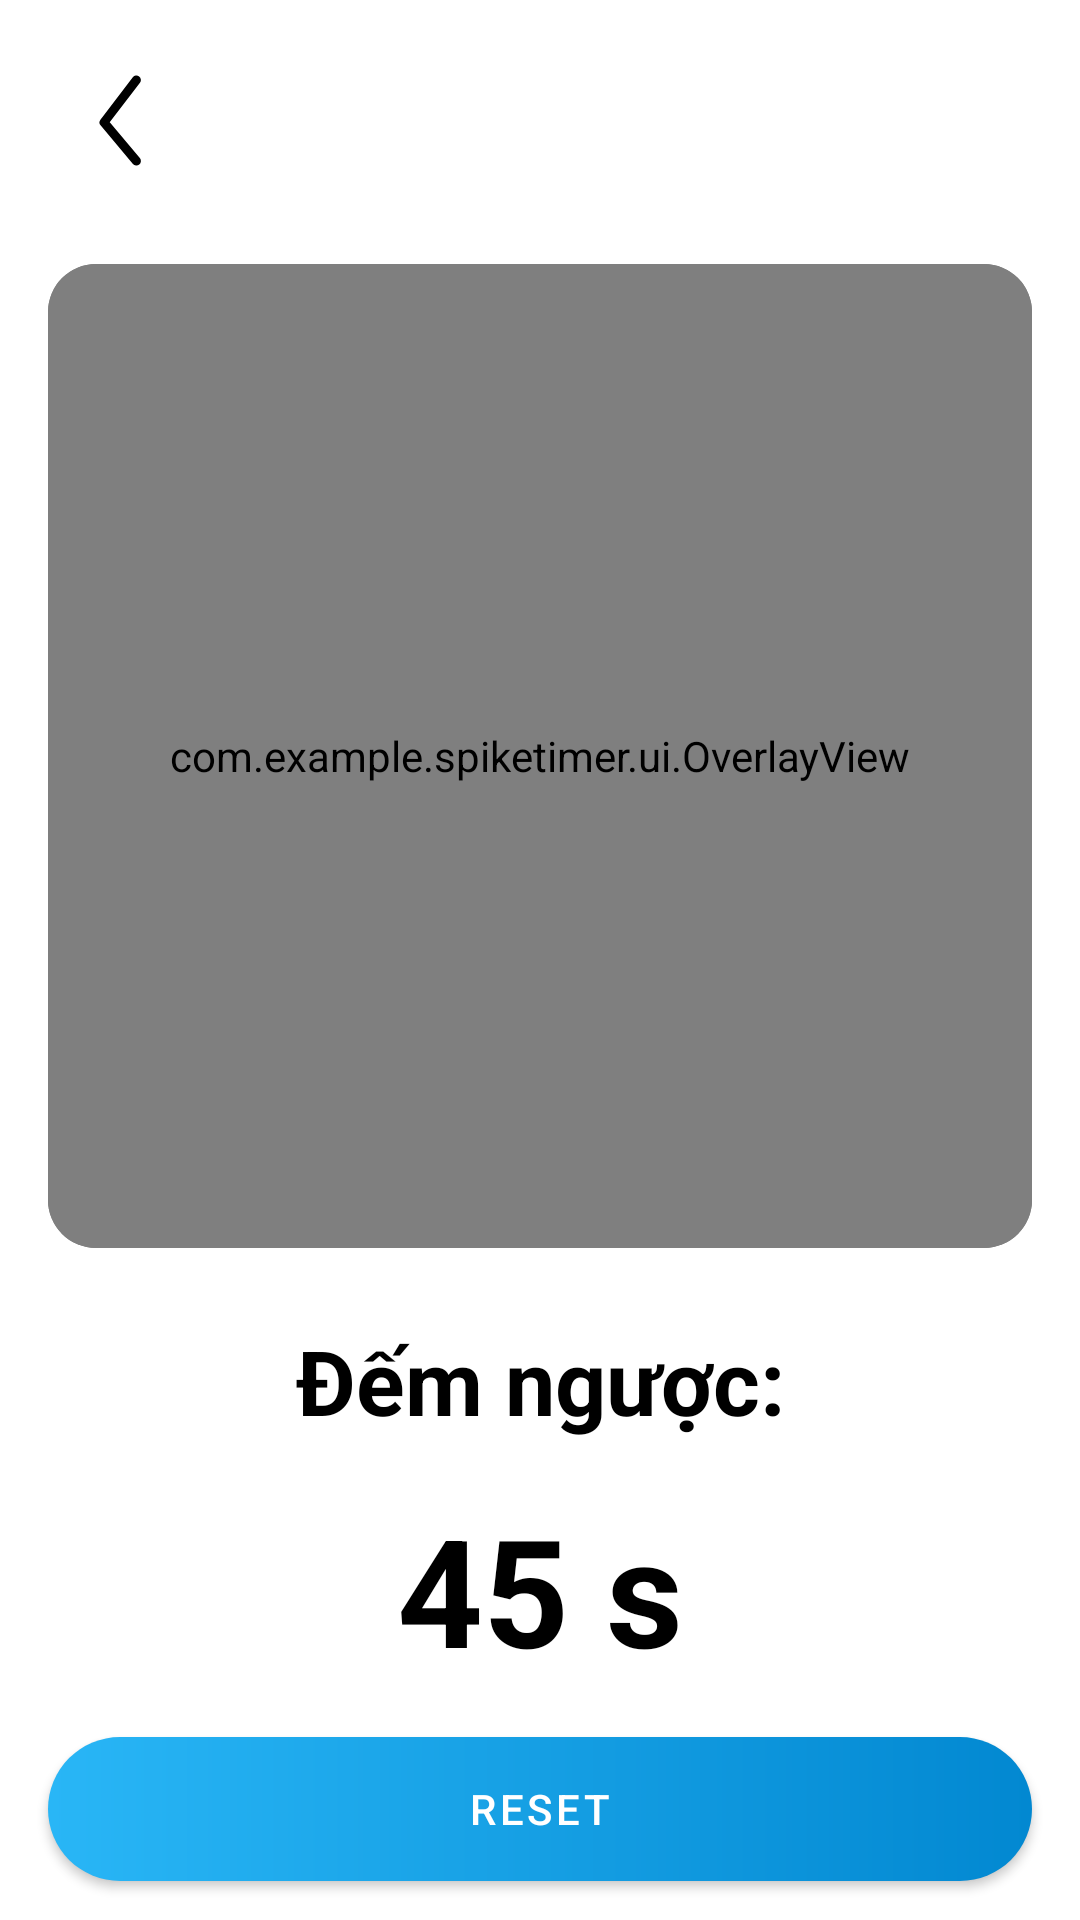

Named icons in this screenshot (1080x1920) and their bounding boxes, (x1, y1, x2, y2):
Quay lại: (99, 75, 141, 166)
